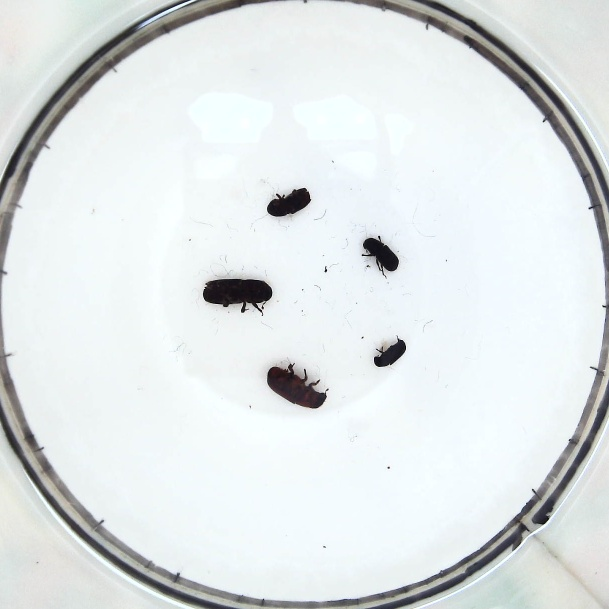armandi: (362, 235, 400, 275)
boerner: (202, 274, 274, 311)
coleoptera: (374, 338, 408, 370)
leconte: (267, 365, 327, 410)
linnaeus: (265, 186, 309, 217)
